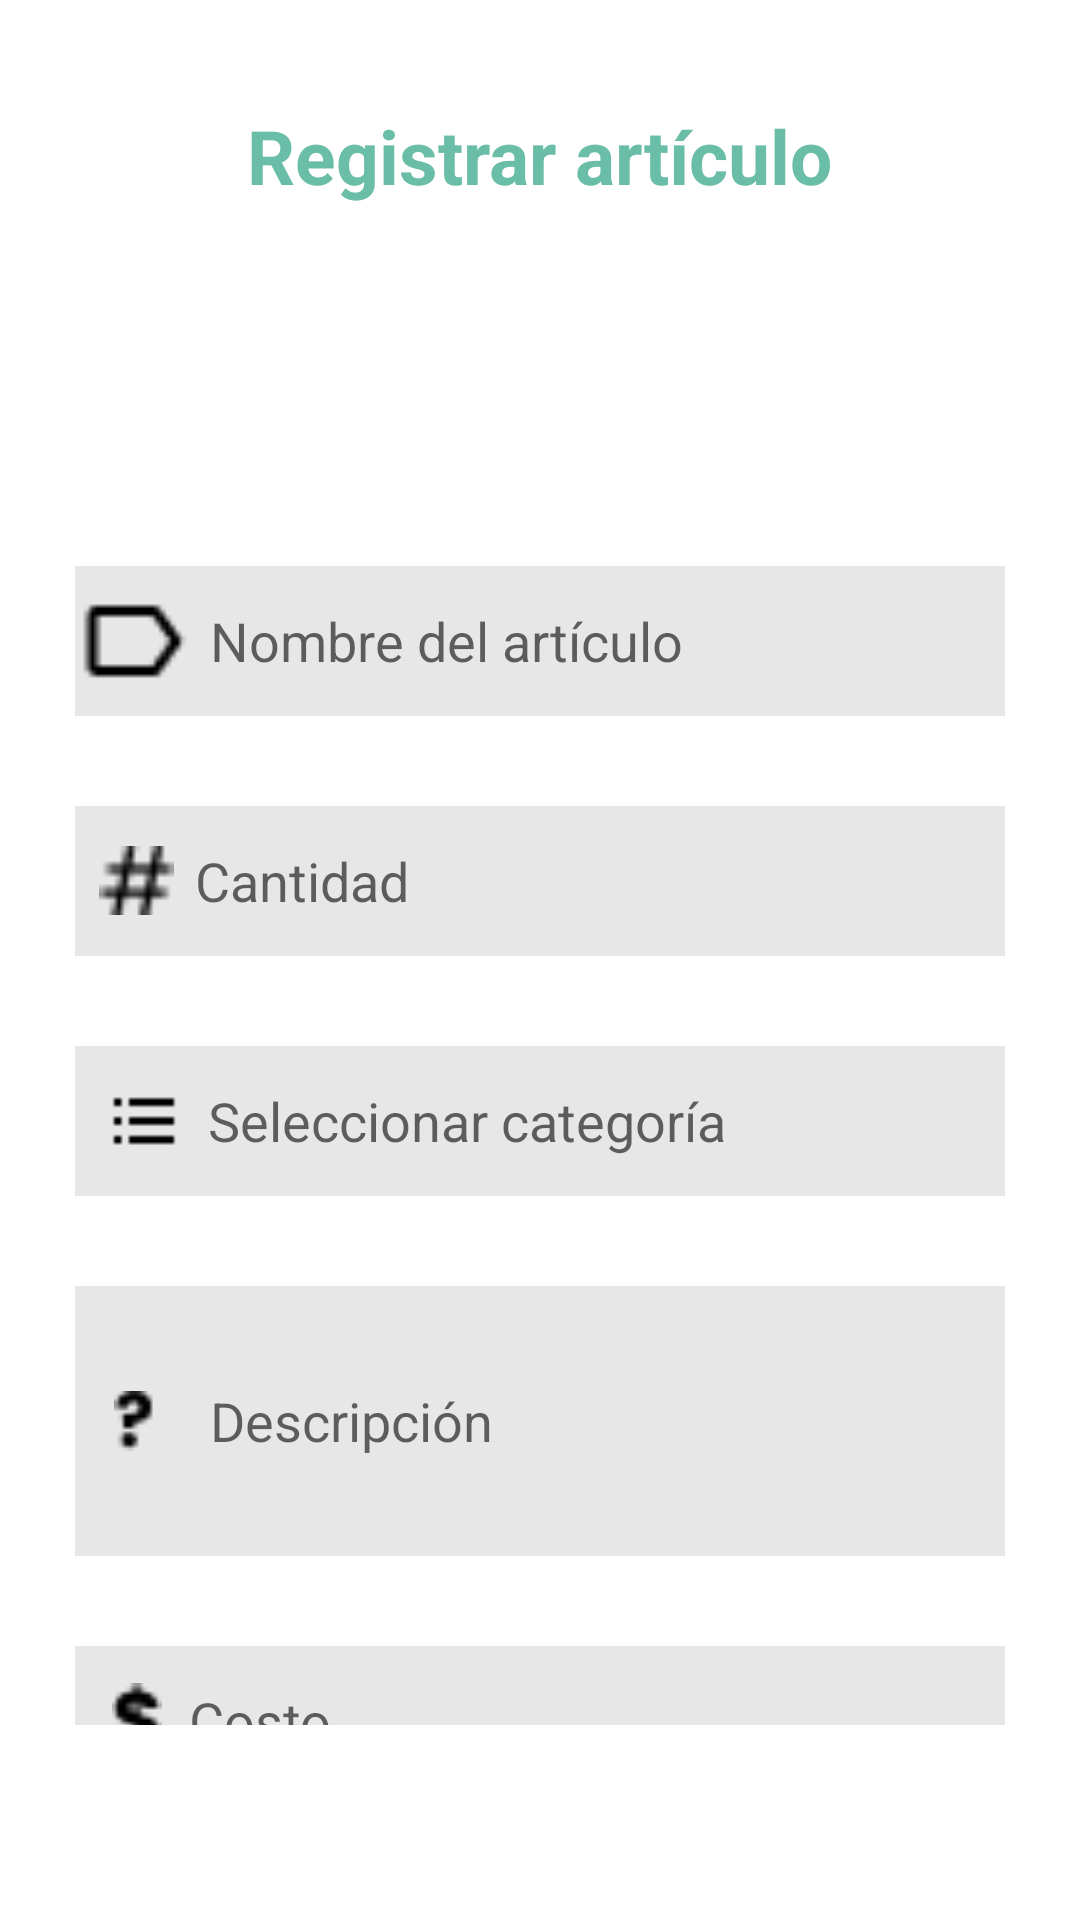

Named icons in this screenshot (1080px×1920px) and their centers, point (x, y):
gato: point (136, 880)
label: point (134, 641)
list ul: point (144, 1121)
signo: point (133, 1421)
